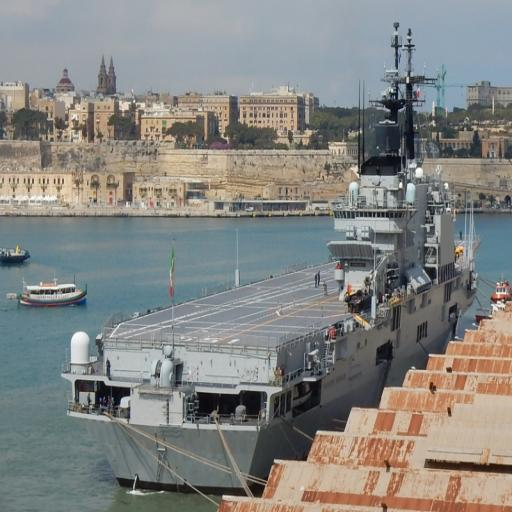Portanaves: (58, 18, 485, 491)
